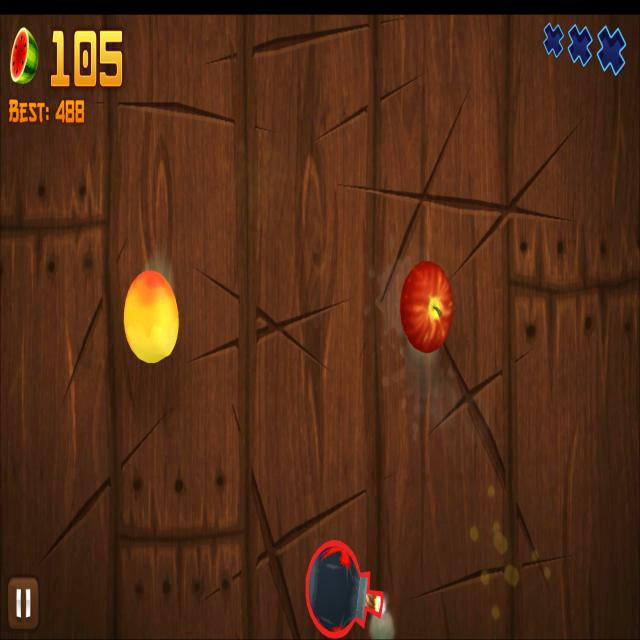bomb: (305, 538, 384, 640)
fruit: (123, 268, 180, 364), (400, 259, 454, 354)
